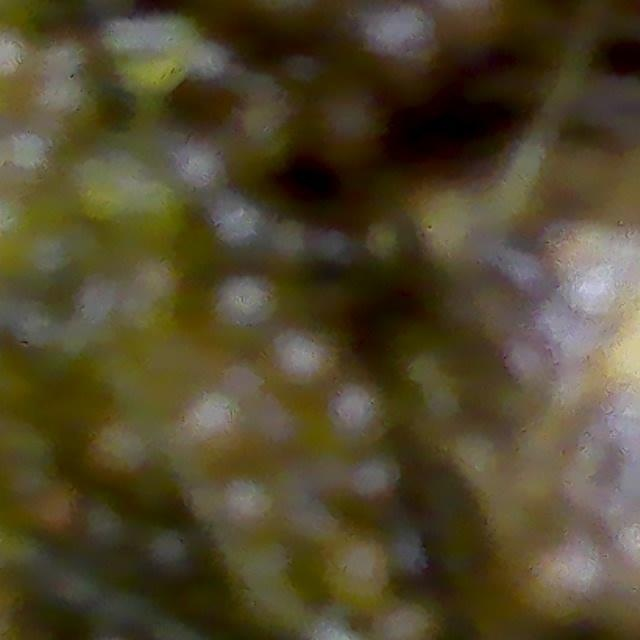SeaGrape: (309, 85, 387, 168), (211, 274, 276, 349), (269, 331, 338, 401), (194, 400, 243, 467), (378, 9, 433, 65), (322, 393, 389, 437)
